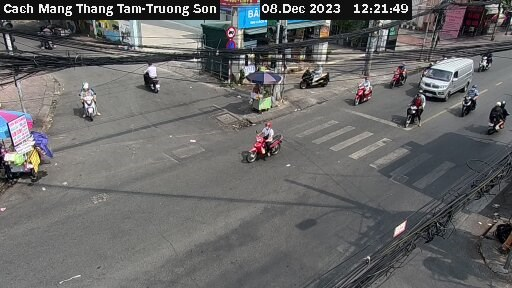car: (420, 58, 478, 99)
motorbike: (236, 122, 305, 169), (69, 85, 114, 129), (135, 59, 171, 103), (395, 96, 437, 133), (452, 84, 484, 118), (487, 99, 512, 141), (350, 74, 379, 110), (381, 58, 410, 89), (480, 41, 503, 74)
